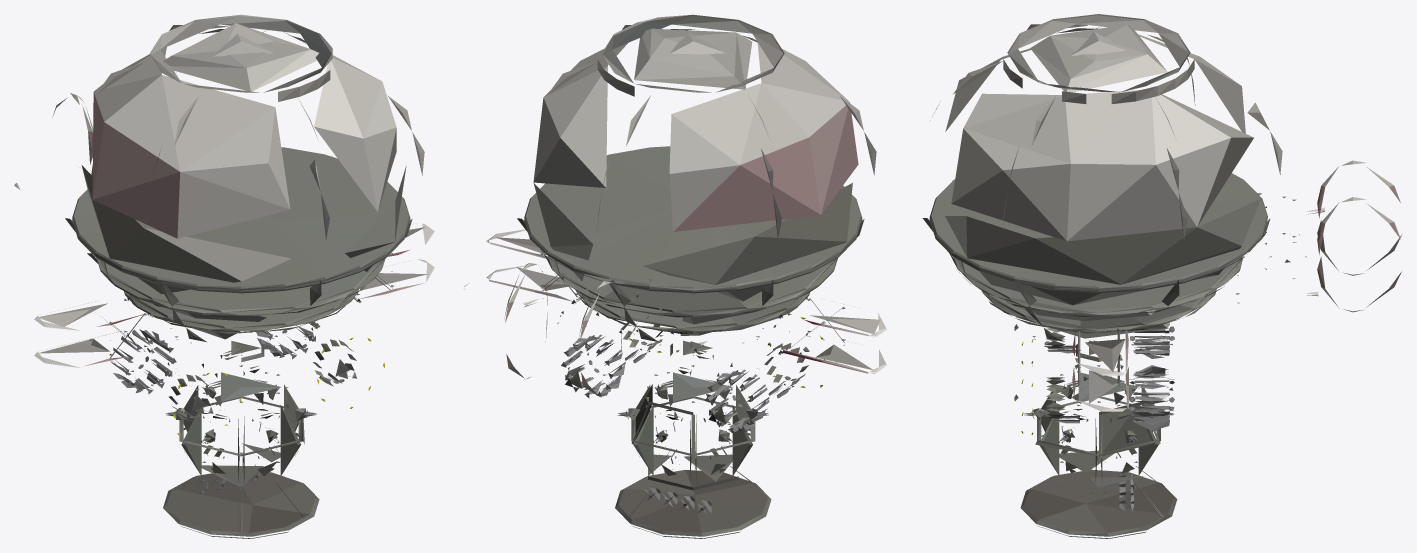
File: balloon.glb
The picture shows the model from 3 angles, left to right: view 1: azimuth 30°, elevation 25°; view 2: azimuth 150°, elevation 25°; view 3: azimuth 270°, elevation 25°; orthographic projection.
Parts seen in each view (by area): view 1: geometry_0; view 2: geometry_0; view 3: geometry_0.
Part boxes in pixels (<box>): geometry_0: <box>14,14,434,538</box>; geometry_0: <box>464,14,886,538</box>; geometry_0: <box>922,14,1401,538</box>.
Bounding box in the file's own units: 22.81 × 26 × 24.61.
